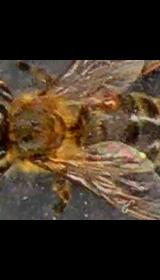varroa_mite: (96, 88, 120, 119)
